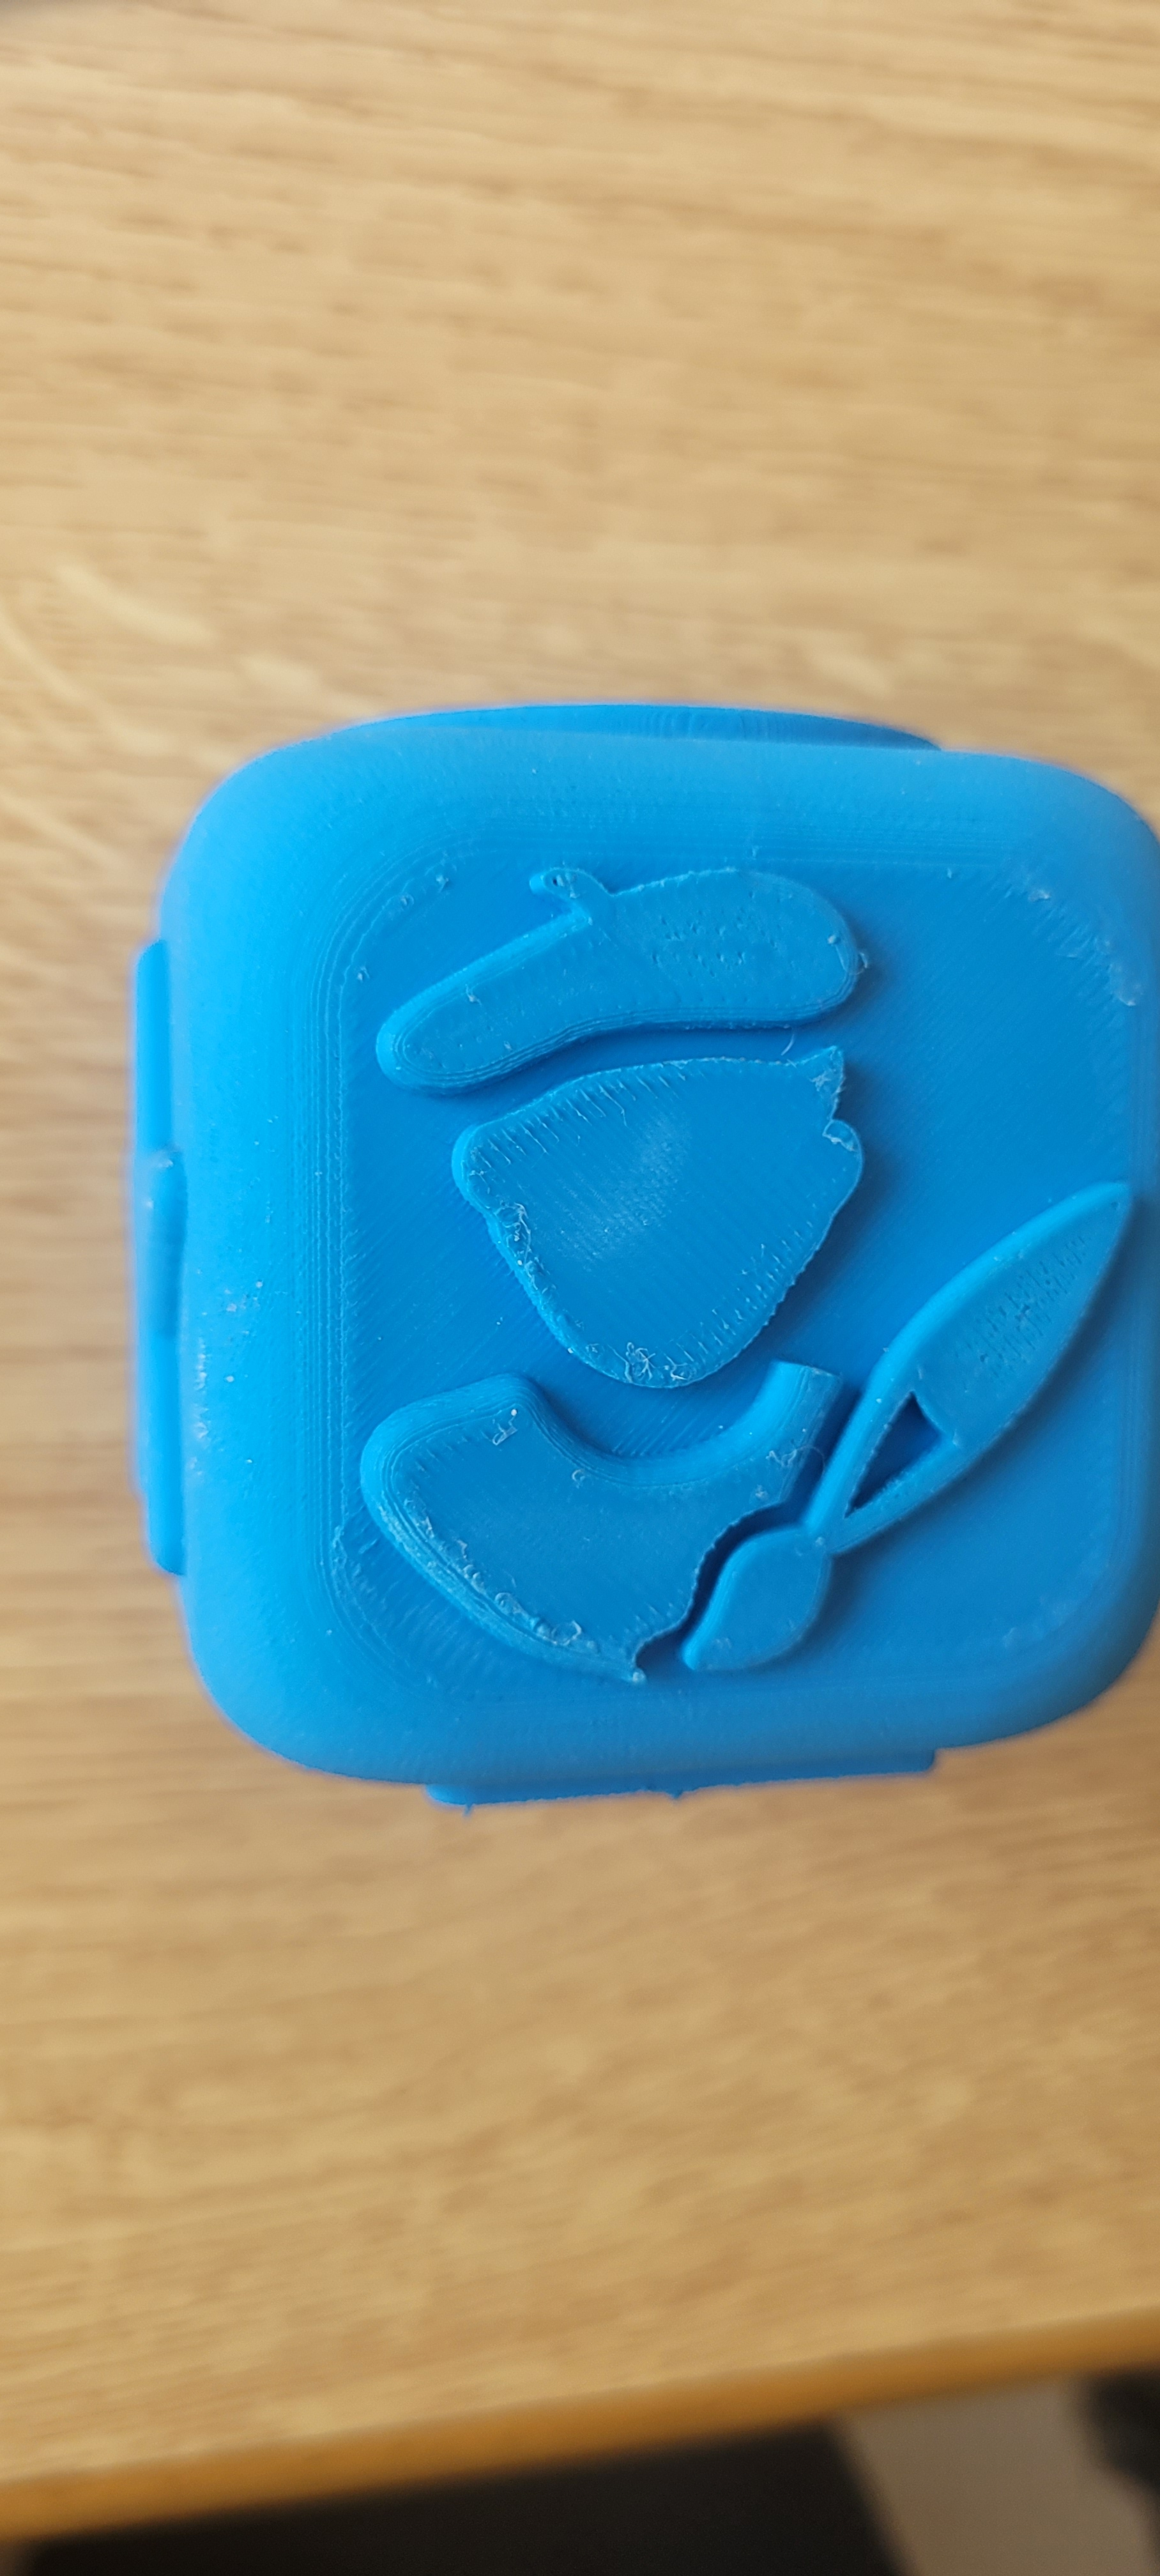Artist_Info: (255, 665, 1160, 1764)
